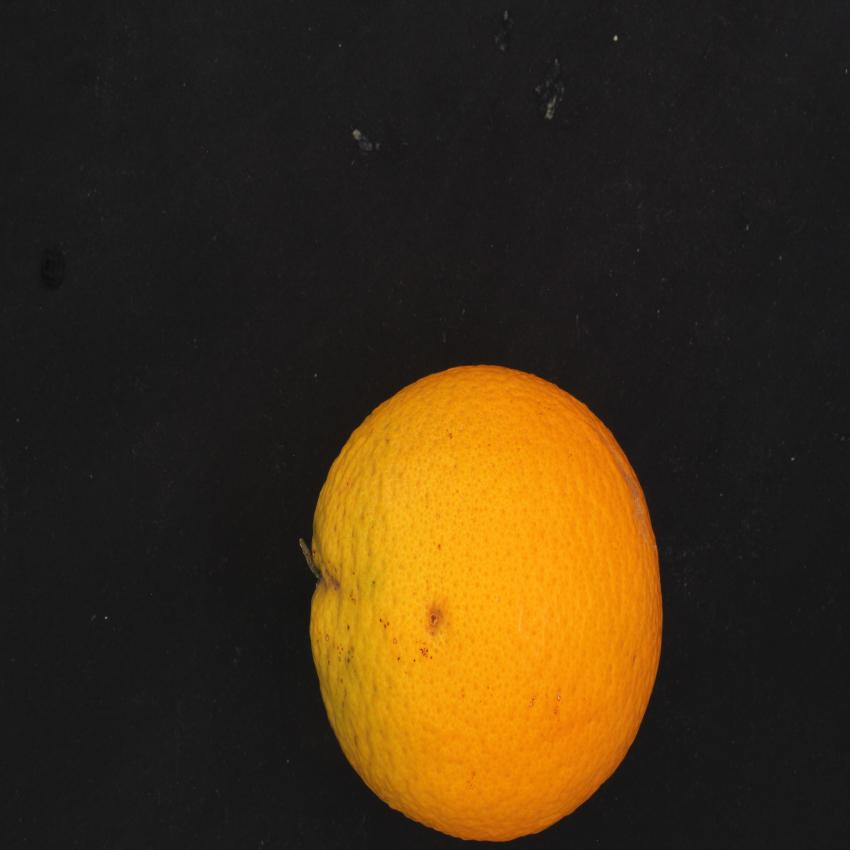Buen estado: (303, 346, 670, 847)
